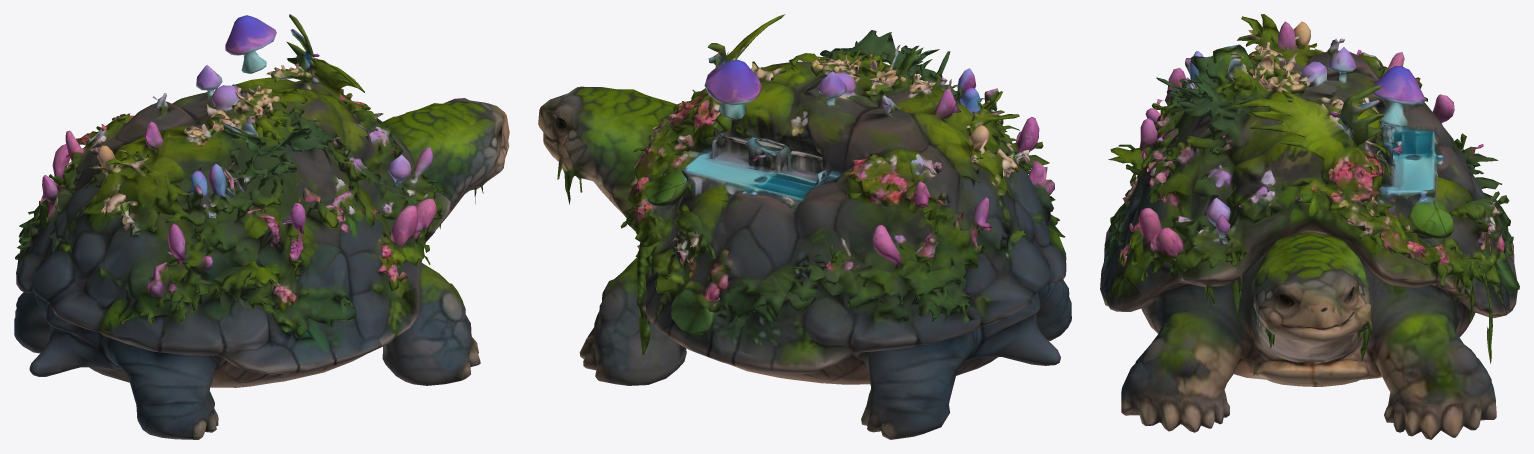
The model's file is n4_mossback.3d26695f.glb.
The picture shows the model from 3 angles, left to right: view 1: azimuth 30°, elevation 25°; view 2: azimuth 150°, elevation 25°; view 3: azimuth 270°, elevation 25°; orthographic projection. The views are drawn at different scales.
Visible parts, largest first — view 1: tripo_node_356abefc-4e52-4404-a509-97021caf5552; view 2: tripo_node_356abefc-4e52-4404-a509-97021caf5552; view 3: tripo_node_356abefc-4e52-4404-a509-97021caf5552.
Boxes of the visible parts, box(x1,y1,x2,y2) form: tripo_node_356abefc-4e52-4404-a509-97021caf5552: box(14, 14, 509, 439); tripo_node_356abefc-4e52-4404-a509-97021caf5552: box(538, 14, 1071, 439); tripo_node_356abefc-4e52-4404-a509-97021caf5552: box(1100, 14, 1519, 439).
Size of the model in its own units: 0.9988 by 0.5816 by 0.71.
Materials: 1 (1 with a texture image).
